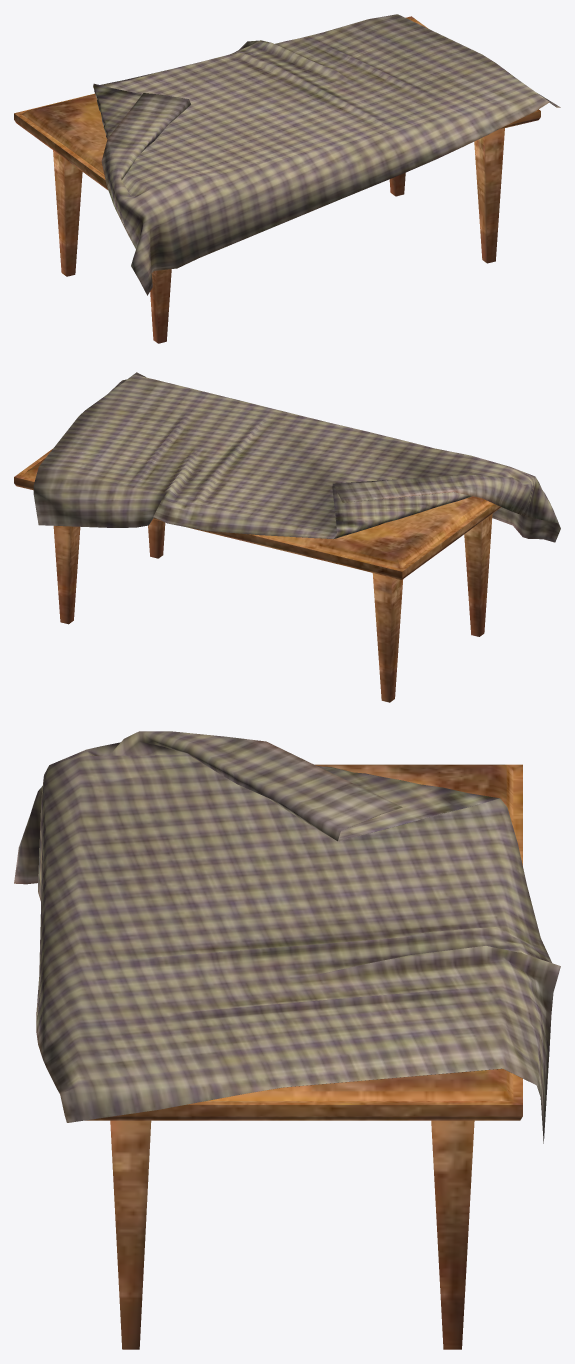
File: dining_table.glb
The picture shows the model from 3 angles, top to bottom: view 1: azimuth 30°, elevation 25°; view 2: azimuth 150°, elevation 25°; view 3: azimuth 270°, elevation 25°; orthographic projection. The views are drawn at different scales.
Visible parts, largest first — view 1: dining_table_cloth, dining_table; view 2: dining_table_cloth, dining_table; view 3: dining_table_cloth, dining_table.
Boxes of the visible parts, left/top/right/bottom form: dining_table_cloth: left=93, top=14, right=560, bottom=295; dining_table: left=14, top=16, right=540, bottom=343; dining_table_cloth: left=33, top=372, right=560, bottom=542; dining_table: left=14, top=449, right=501, bottom=702; dining_table_cloth: left=14, top=731, right=560, bottom=1143; dining_table: left=85, top=764, right=522, bottom=1349.
Size of the model in its own units: 2.26 by 0.877 by 1.39.
1 material, 1 textured.
